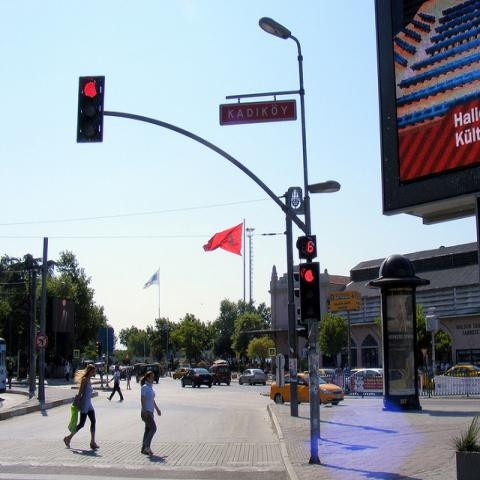car: (269, 370, 344, 406), (429, 363, 479, 389), (345, 368, 383, 391), (181, 368, 213, 388), (208, 364, 232, 386), (239, 369, 266, 387), (173, 368, 188, 379), (318, 368, 334, 374), (109, 364, 116, 374), (350, 368, 362, 373)
